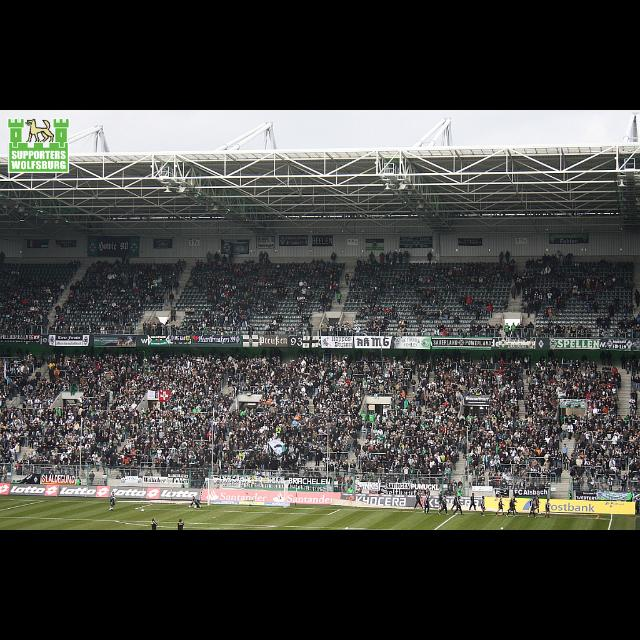Football: (140, 508, 142, 510)
